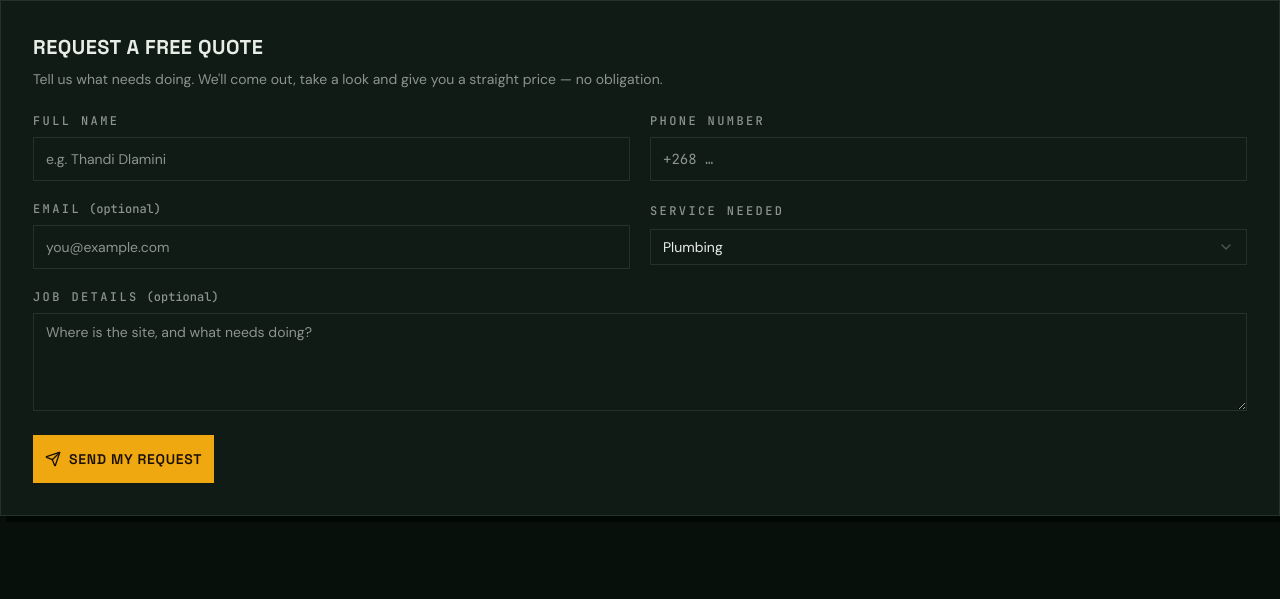
Scenario: QuoteForm › surfaces a recoverable error when the backend rejects
Step 1. Type "Thandi Dlamini" into the field labelled "Full name" → x=332, y=159, box [33,137,630,181]
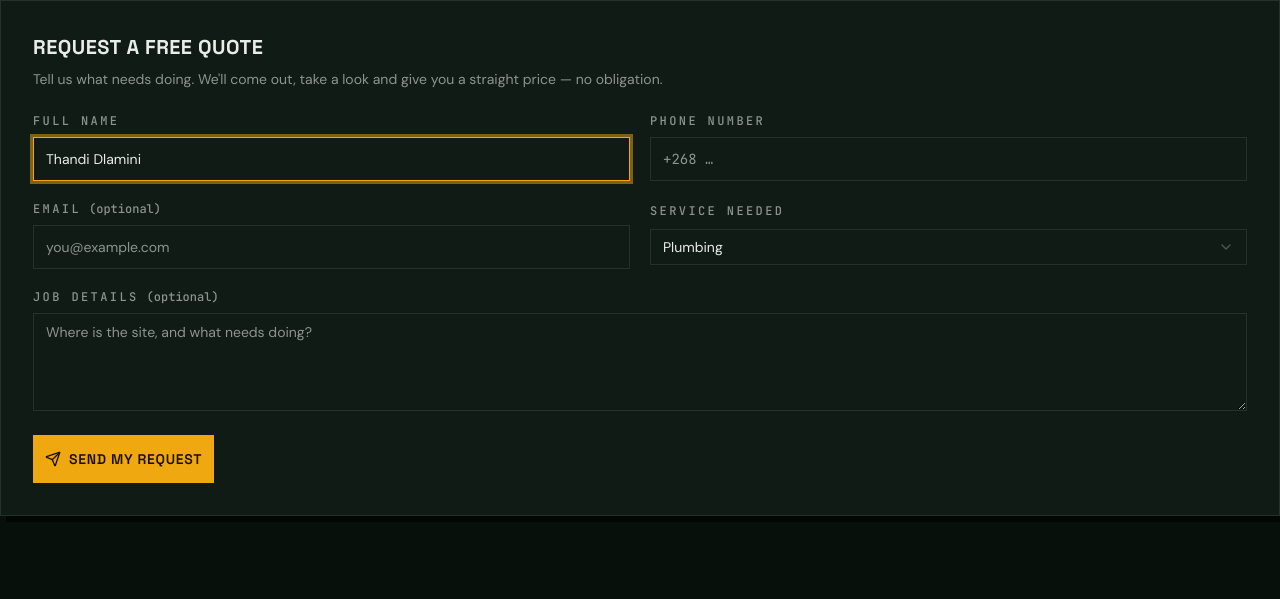
Step 2. Type "+268 7948 9466" into the field labelled "Phone number" → x=948, y=159, box [650,137,1247,181]
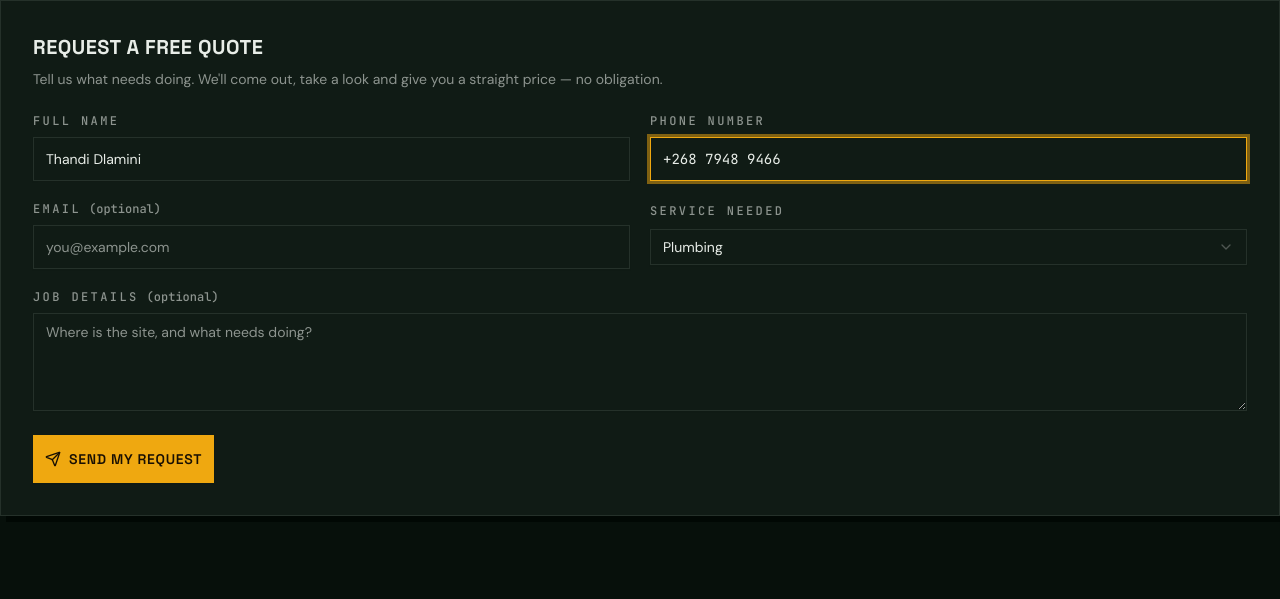
Step 3. Click the dropdown named "service needed" → x=693, y=247, box [650,229,1247,265]
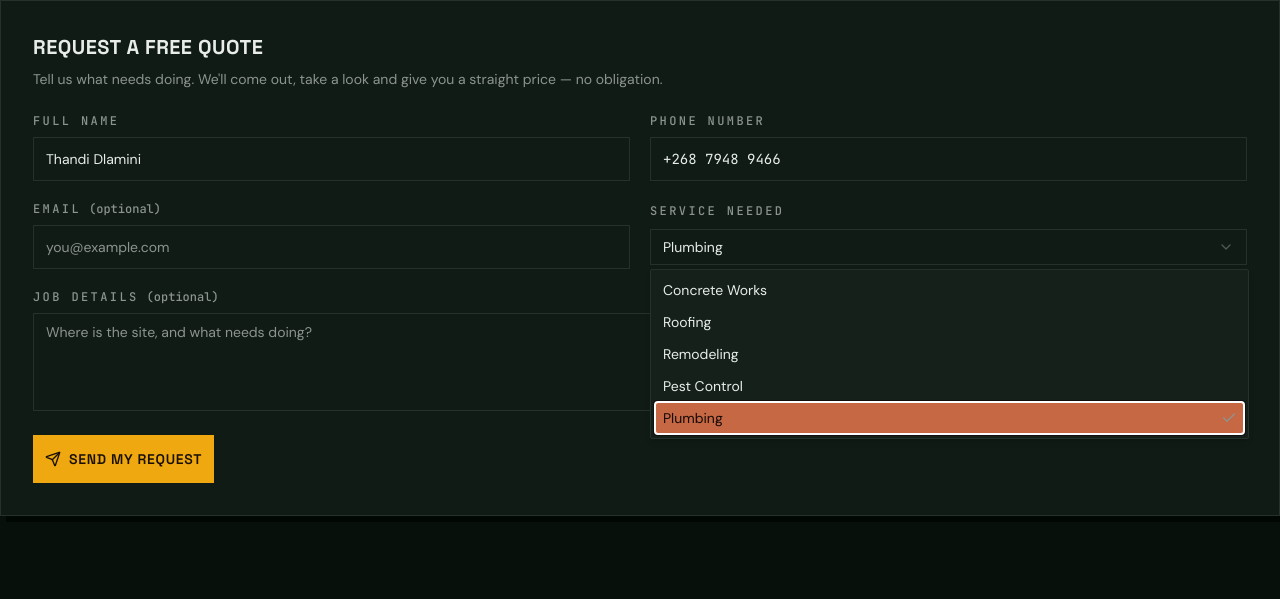
Step 4. Click the option "Roofing" → x=687, y=322, box [663,313,711,331]
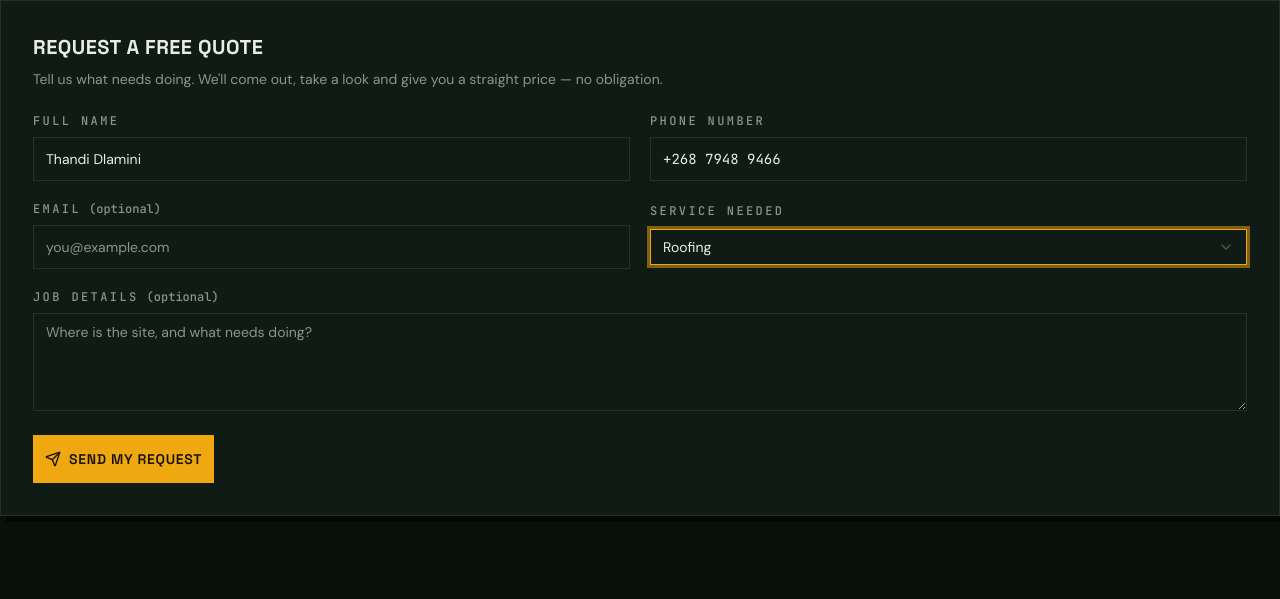
Step 5. Click the button "Send my request" → x=124, y=459, box [33,435,214,483]
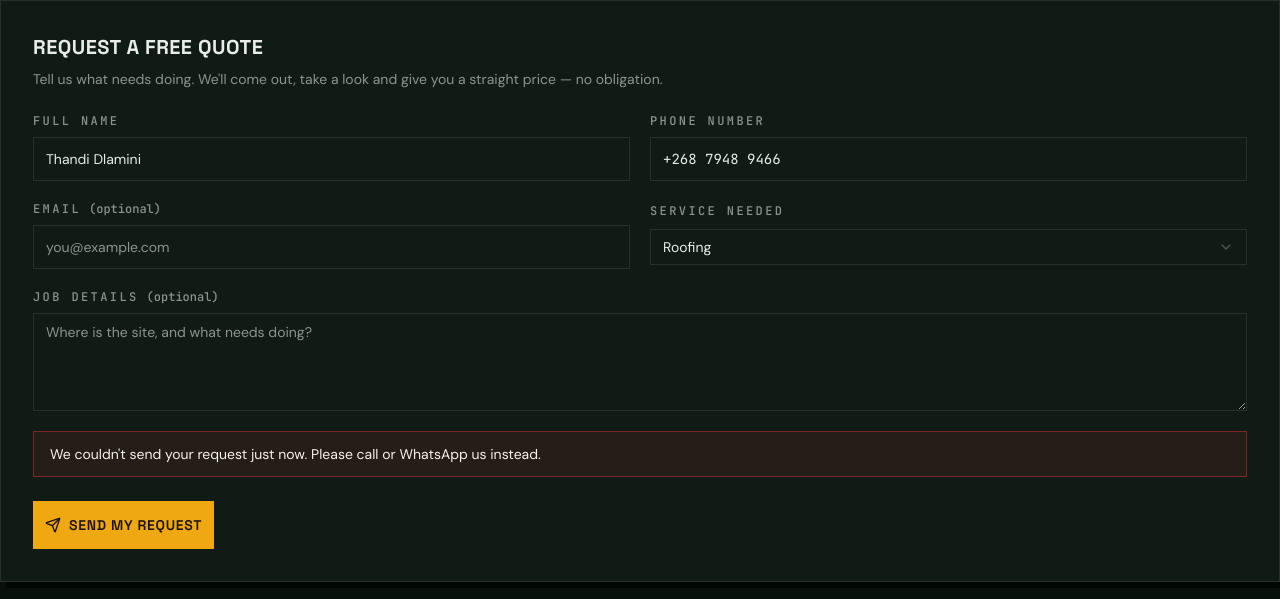
Check: the message shows "couldn't send your request", box [50,445,541,463]
